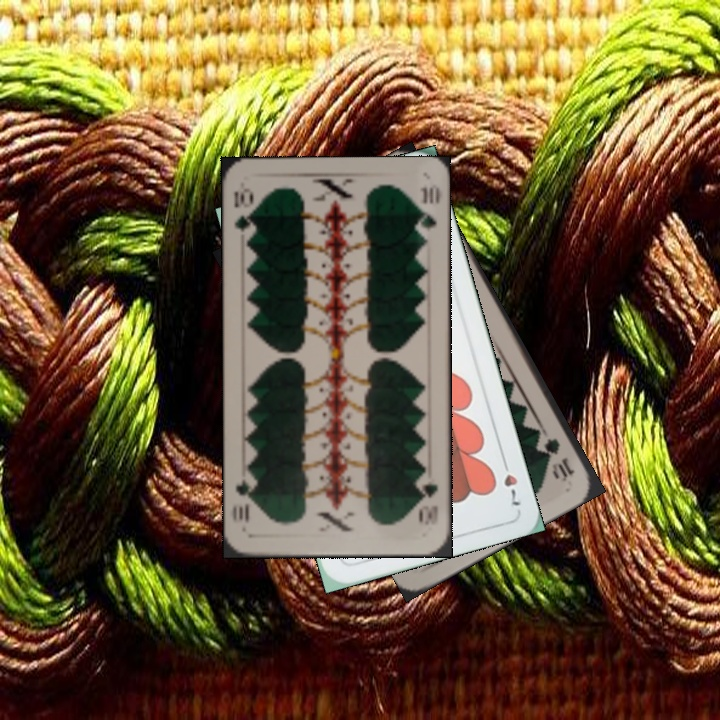G10: (540, 433, 578, 484), (229, 184, 256, 241), (416, 478, 441, 527)
H7: (497, 453, 523, 511)
